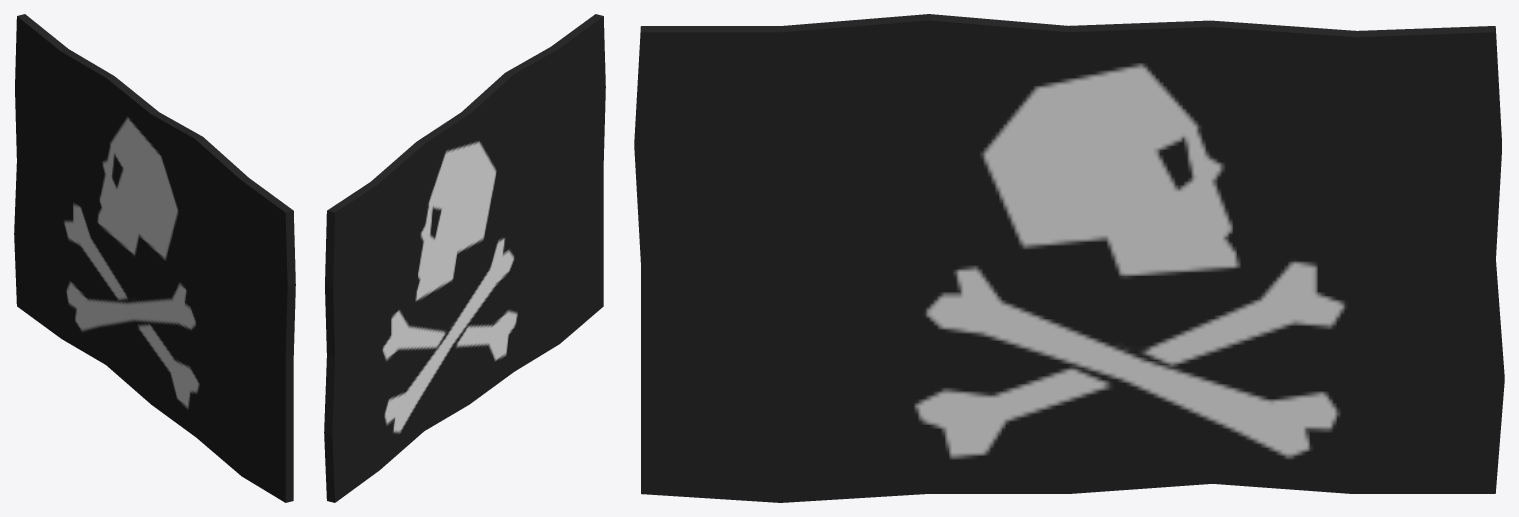
The model's file is SM_Flag_Pirate_01.glb.
3 views of the same model, side by side, from view 1: azimuth 30°, elevation 25°; view 2: azimuth 150°, elevation 25°; view 3: azimuth 270°, elevation 25° (orthographic). The views are drawn at different scales.
Parts seen in each view (by area): view 1: SM_Flag_Pirate_01; view 2: SM_Flag_Pirate_01; view 3: SM_Flag_Pirate_01.
Part boxes in pixels (left/top/right/bottom): SM_Flag_Pirate_01: left=14, top=14, right=295, bottom=502; SM_Flag_Pirate_01: left=324, top=14, right=605, bottom=502; SM_Flag_Pirate_01: left=634, top=14, right=1504, bottom=502.
Bounding box in the file's own units: 0.000403 × 0.0142 × 0.0232.
1 material, 1 textured.
